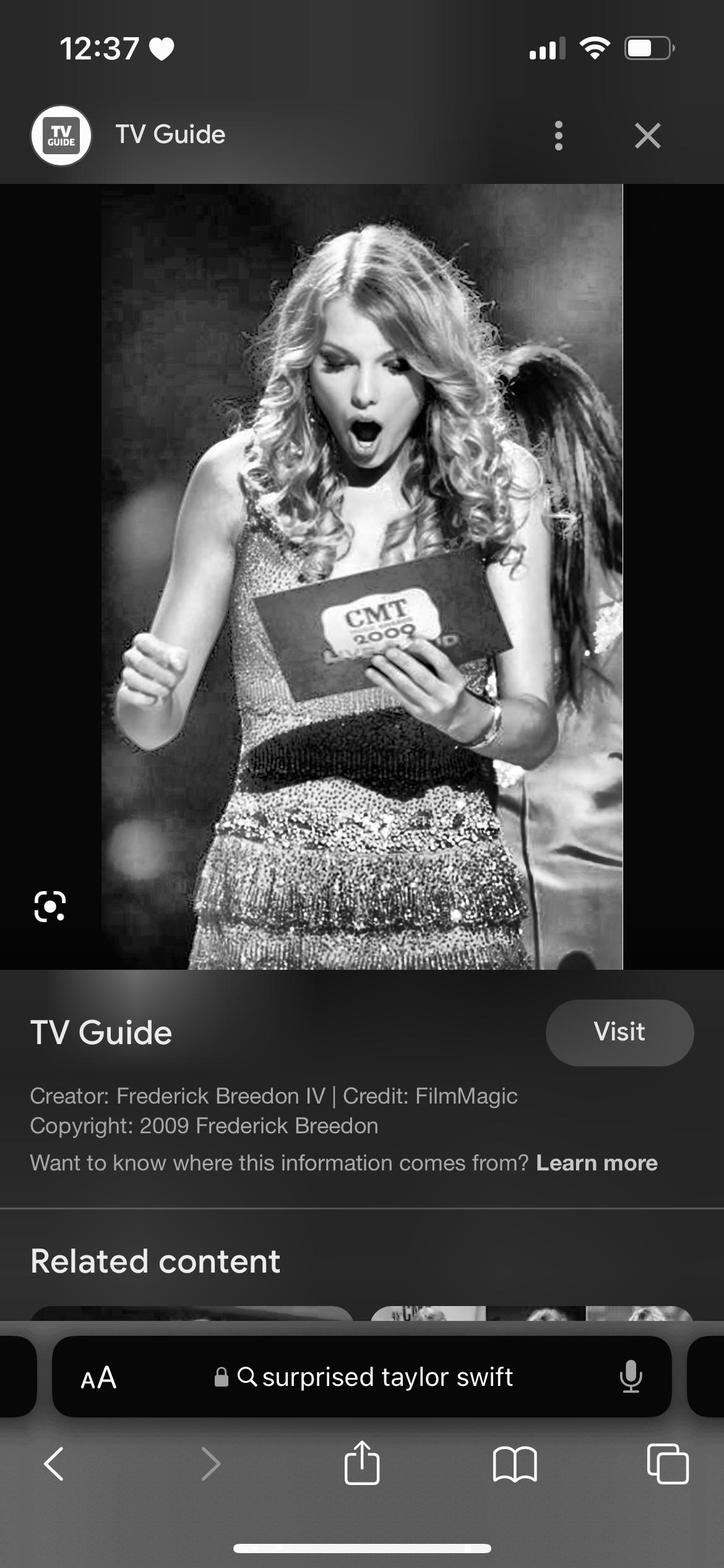surprised: (295, 285, 441, 485)
